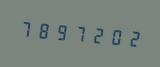eight: (35, 16, 52, 44)
nine: (53, 17, 70, 46)
seven: (17, 14, 34, 42), (71, 19, 88, 47)
two: (89, 20, 106, 49), (125, 24, 142, 52)
zero: (107, 22, 124, 50)
